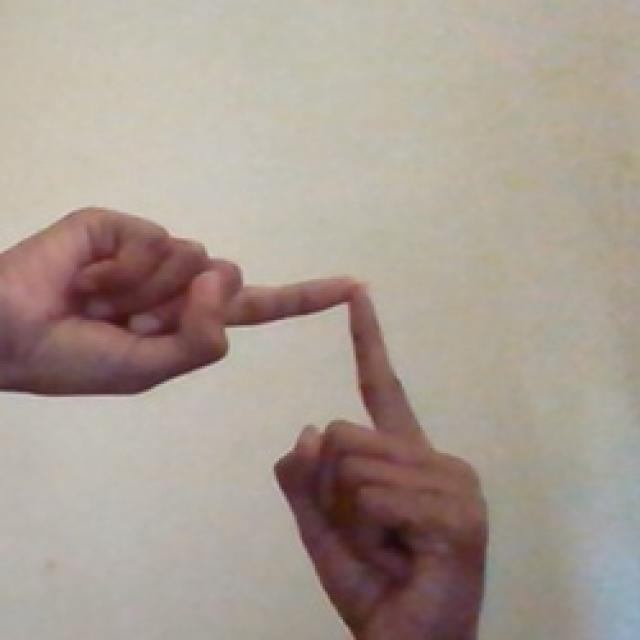Alphabet-E: (1, 210, 489, 640)
